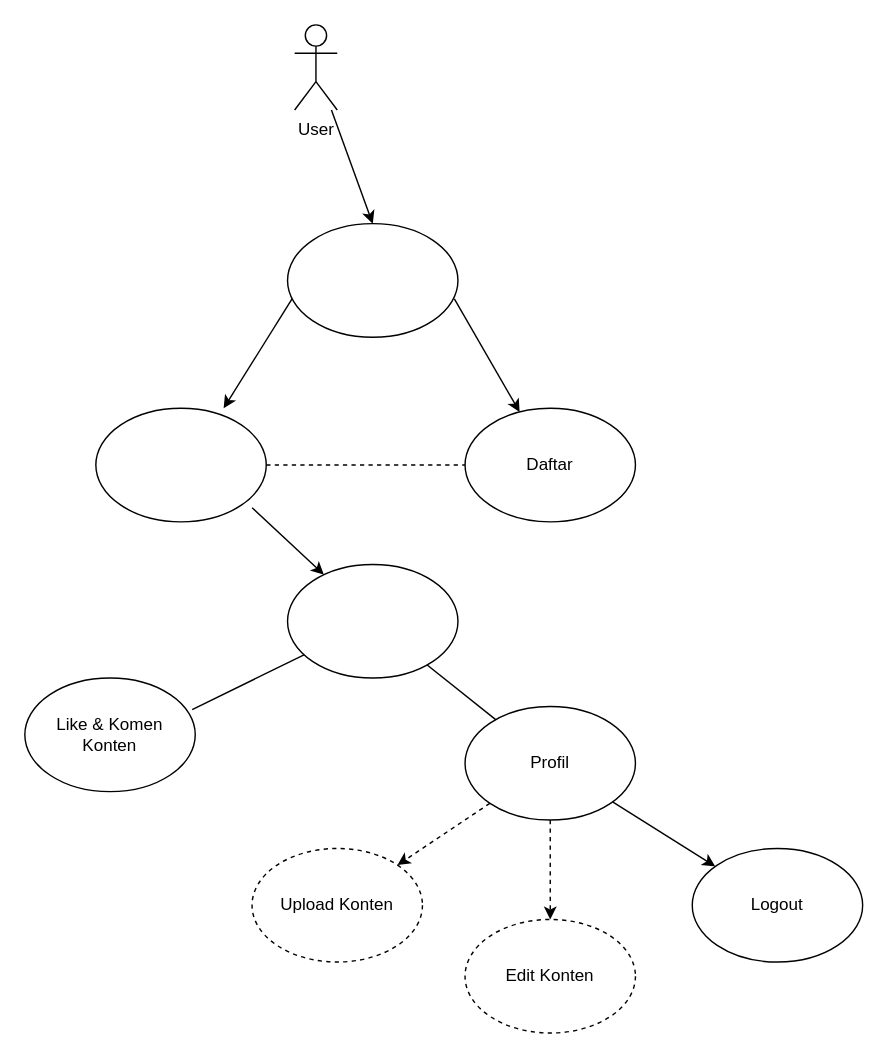
The diagram is 888 pixels wide and 1058 high, and some of its shapes have lost their labels. Each missing label, with the centre of its shape:
Beranda: the point at 372,620
Halaman Utama: the point at 372,279
Login: the point at 180,464
